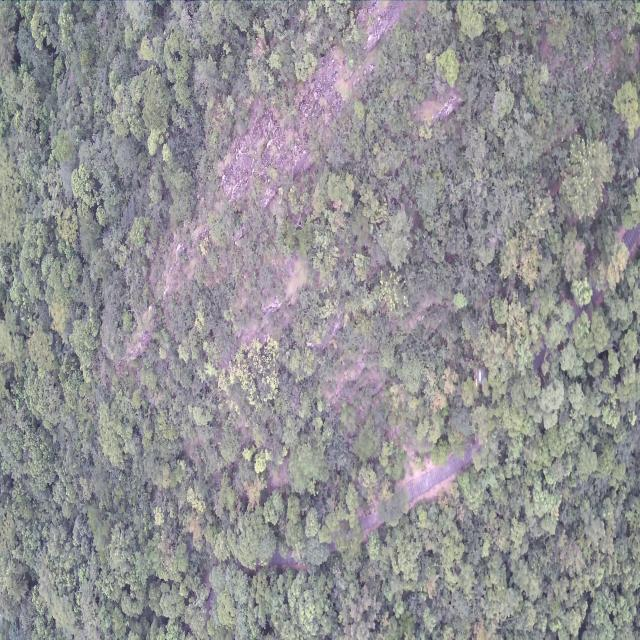UAV: (474, 366, 485, 388)
